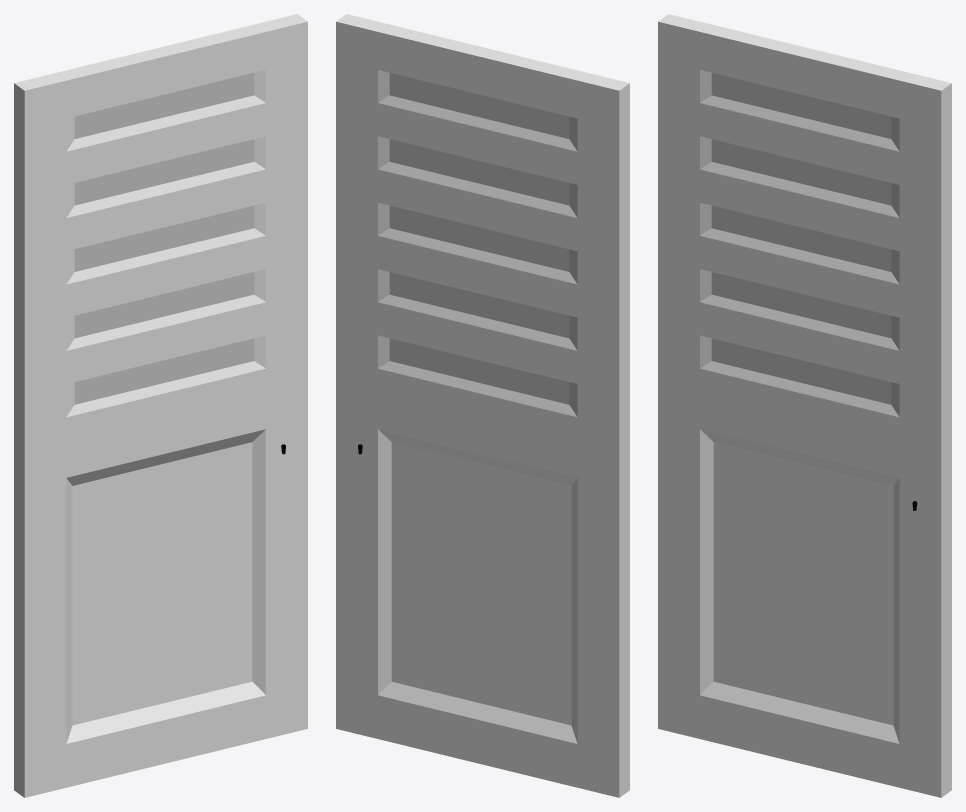
The model's file is Door09.fbx.
3 renders of one model, left to right at view 1: azimuth 30°, elevation 25°; view 2: azimuth 150°, elevation 25°; view 3: azimuth 330°, elevation 25°, orthographic.
Parts seen in each view (by area): view 1: Door09; view 2: Door09; view 3: Door09.
Boxes of the visible parts, x1,y1,x2,y2 form: Door09: (14, 14, 307, 797); Door09: (336, 14, 629, 797); Door09: (658, 14, 951, 797).
Size of the model in its own units: 78 by 186 by 6.71.
